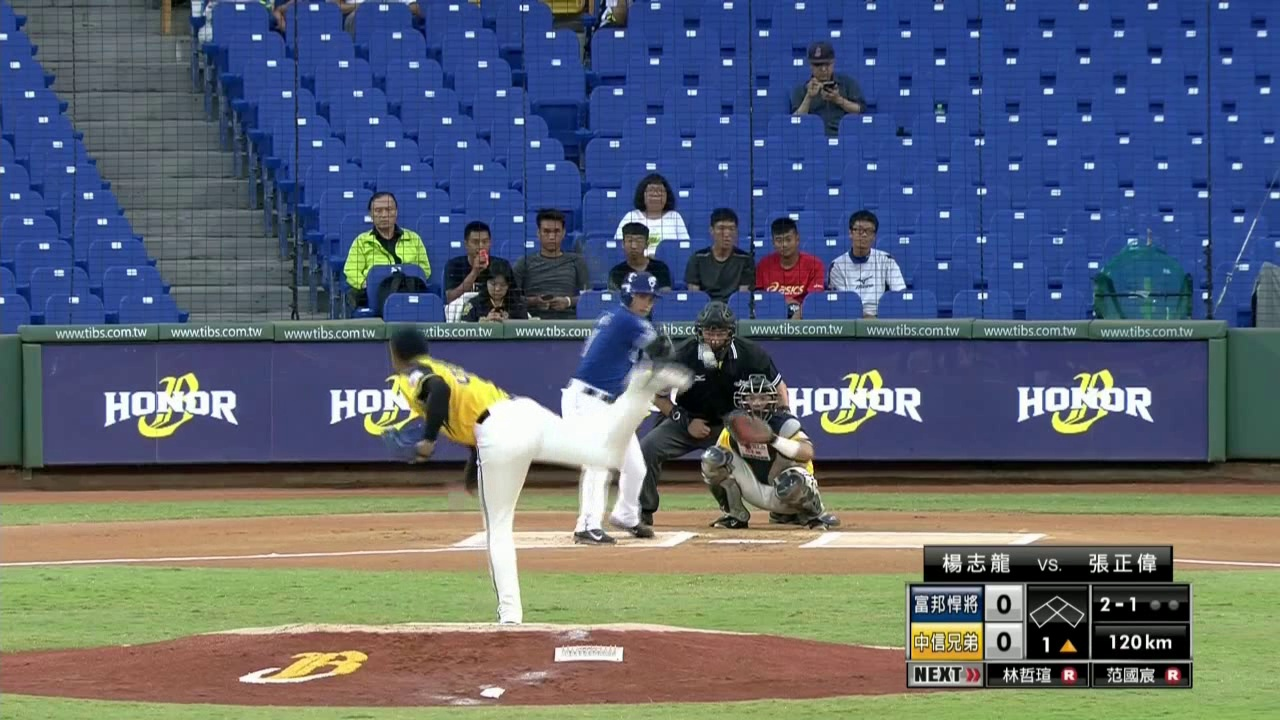ball: (699, 346, 717, 366)
base: (1027, 592, 1088, 630)
out: (1145, 597, 1182, 613)
score1: (985, 583, 1022, 621)
score2: (984, 623, 1022, 658)
session: (1035, 634, 1082, 655)
speed: (1105, 630, 1178, 653)
strikeball: (1096, 592, 1139, 614)
